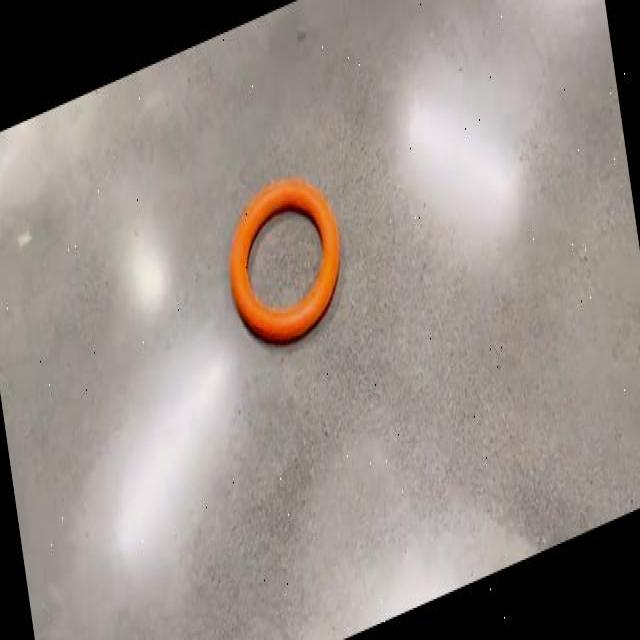note: (229, 177, 340, 341)
